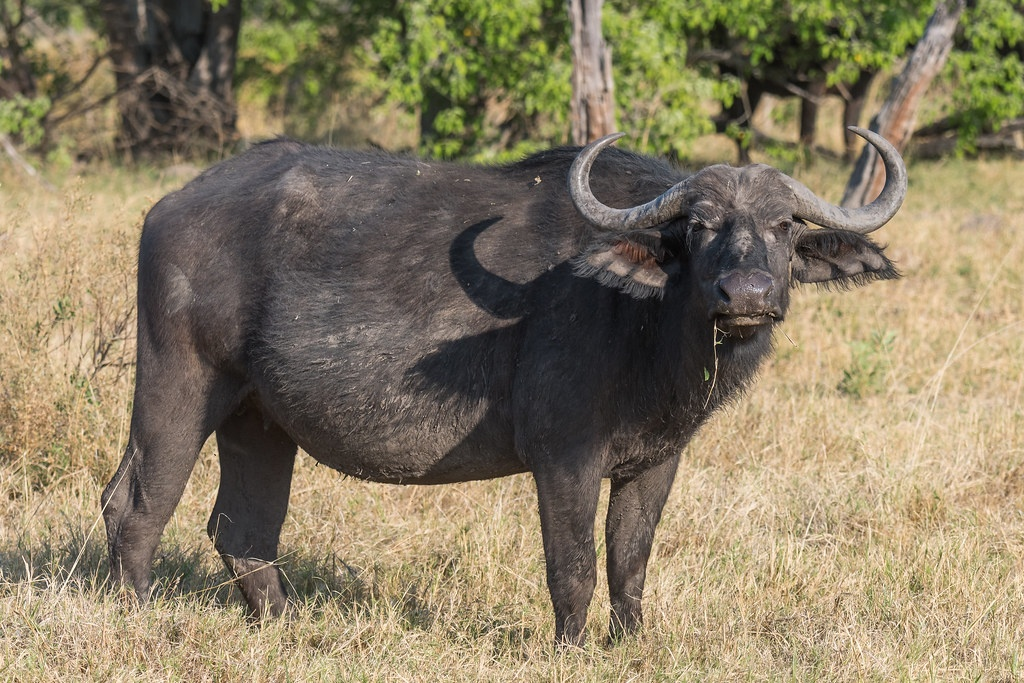buffalo: (100, 123, 909, 653)
